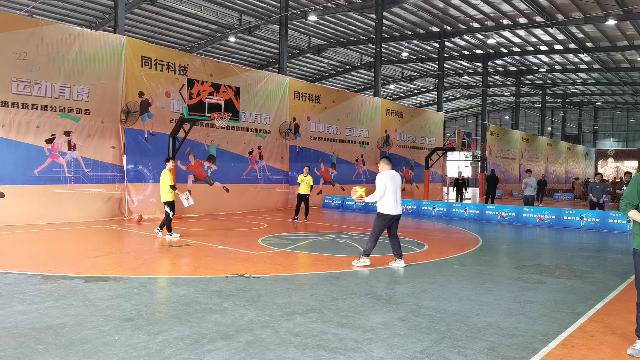ball: (351, 185, 367, 200), (132, 214, 142, 222)
basket: (210, 111, 232, 129)
